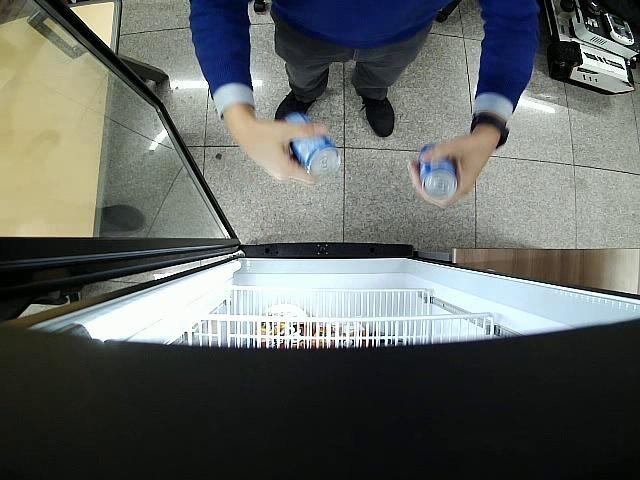15_letsbe: (286, 112, 342, 182), (420, 143, 460, 200)
